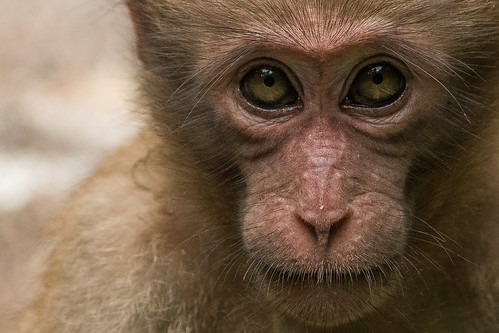monkey: (22, 1, 499, 333)
